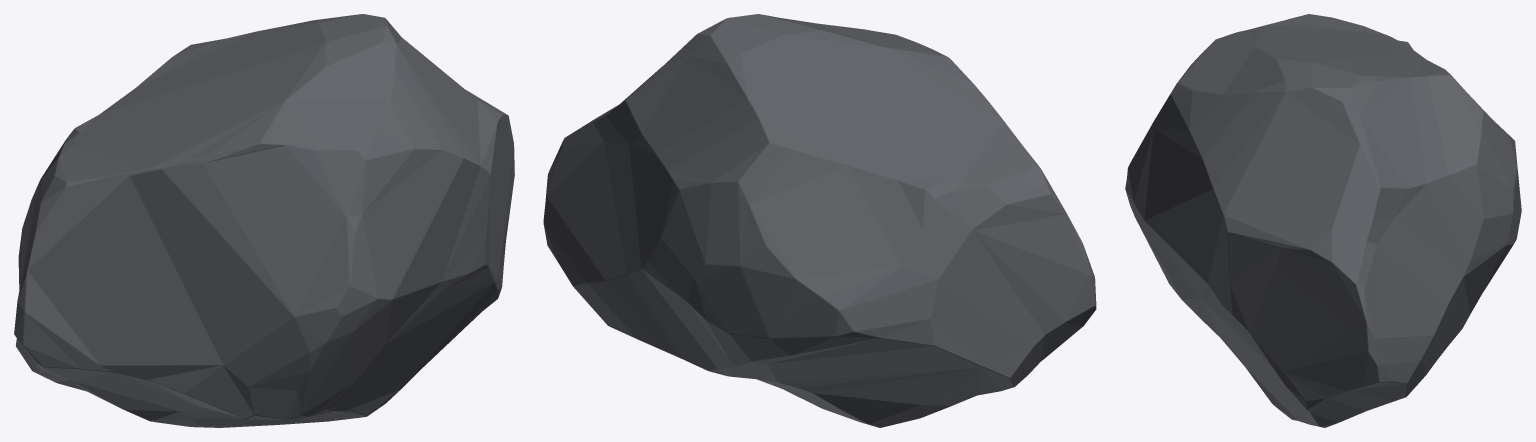
File: batukecil2.fbx
3 views of the same model, side by side, from view 1: azimuth 30°, elevation 25°; view 2: azimuth 150°, elevation 25°; view 3: azimuth 270°, elevation 25° (orthographic). The views are drawn at different scales.
Visible parts, largest first — view 1: Cube.026; view 2: Cube.026; view 3: Cube.026.
Boxes of the visible parts, x1=… form: Cube.026: x1=14, y1=14, x2=514, y2=427; Cube.026: x1=543, y1=14, x2=1096, y2=427; Cube.026: x1=1125, y1=14, x2=1521, y2=427.
Size of the model in its own units: 453 by 302 by 315.
